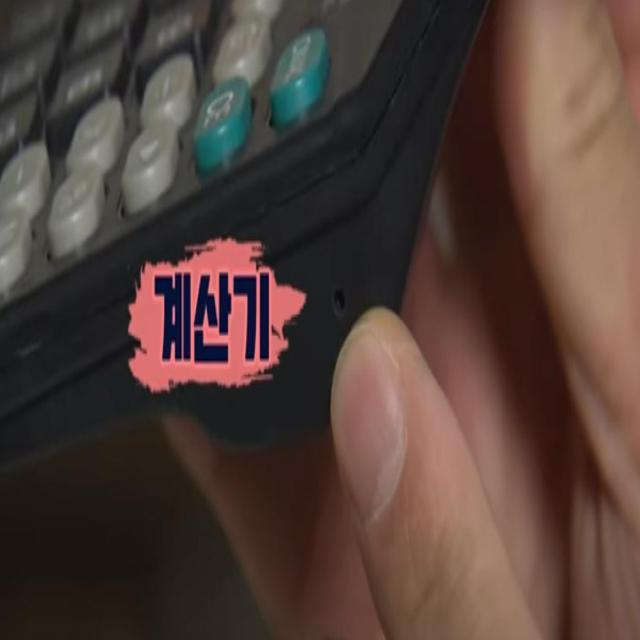hidden camera: (330, 279, 349, 324)
